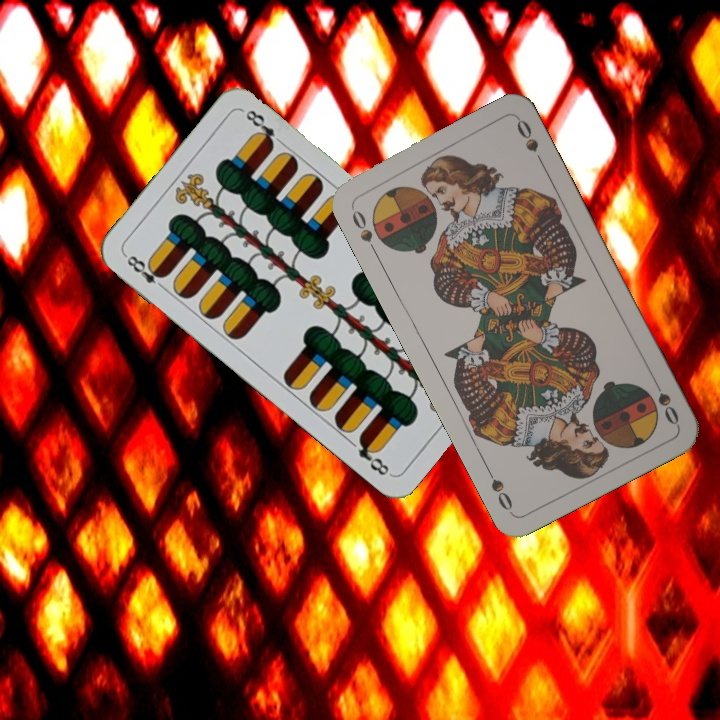E8: (120, 250, 169, 294)
SO: (648, 373, 682, 428), (346, 202, 380, 257)
